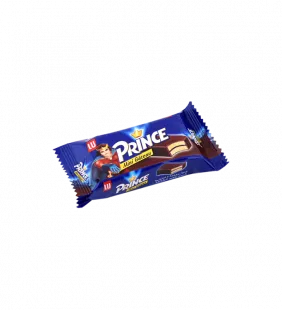PRINCE: (44, 93, 236, 218)
